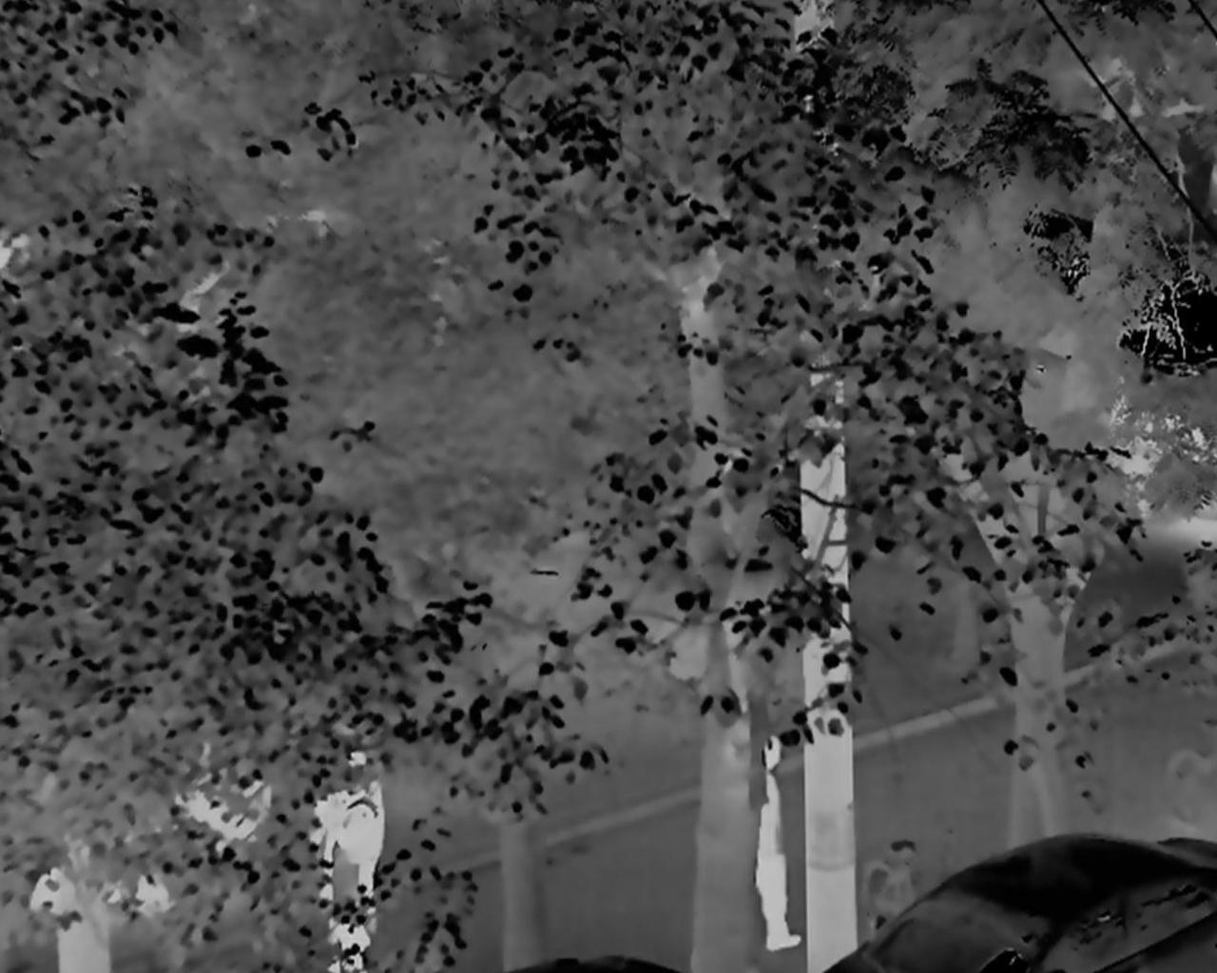person: (310, 752, 384, 948), (748, 734, 801, 951)
